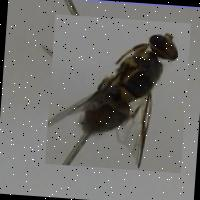Oriental-fruit-fly: (44, 14, 190, 173)
